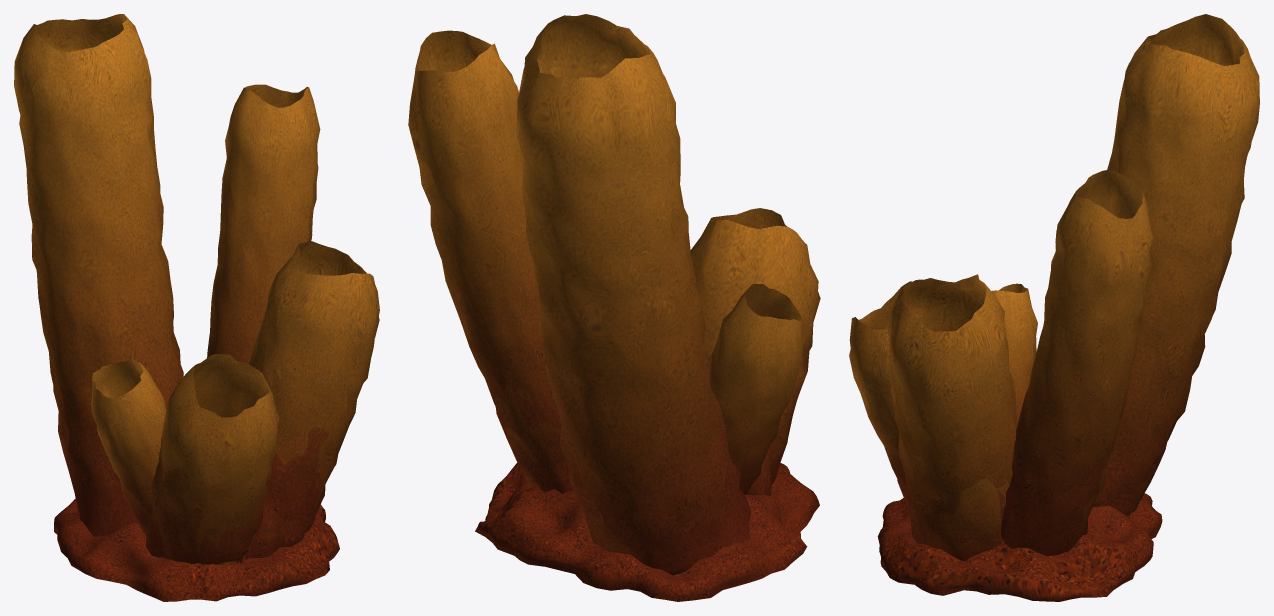
The model's file is newcoral.glb.
3 renders of one model, left to right at view 1: azimuth 30°, elevation 25°; view 2: azimuth 150°, elevation 25°; view 3: azimuth 270°, elevation 25°, orthographic. The views are drawn at different scales.
Visible parts, largest first — view 1: Sphere.001_coral_3_0; view 2: Sphere.001_coral_3_0; view 3: Sphere.001_coral_3_0.
Boxes of the visible parts, <box> form: Sphere.001_coral_3_0: <box>14,14,379,601</box>; Sphere.001_coral_3_0: <box>408,14,820,601</box>; Sphere.001_coral_3_0: <box>849,14,1259,601</box>.
Bounding box in the file's own units: 2.19 × 3.6 × 2.7.
Materials: 1 (1 with a texture image).
